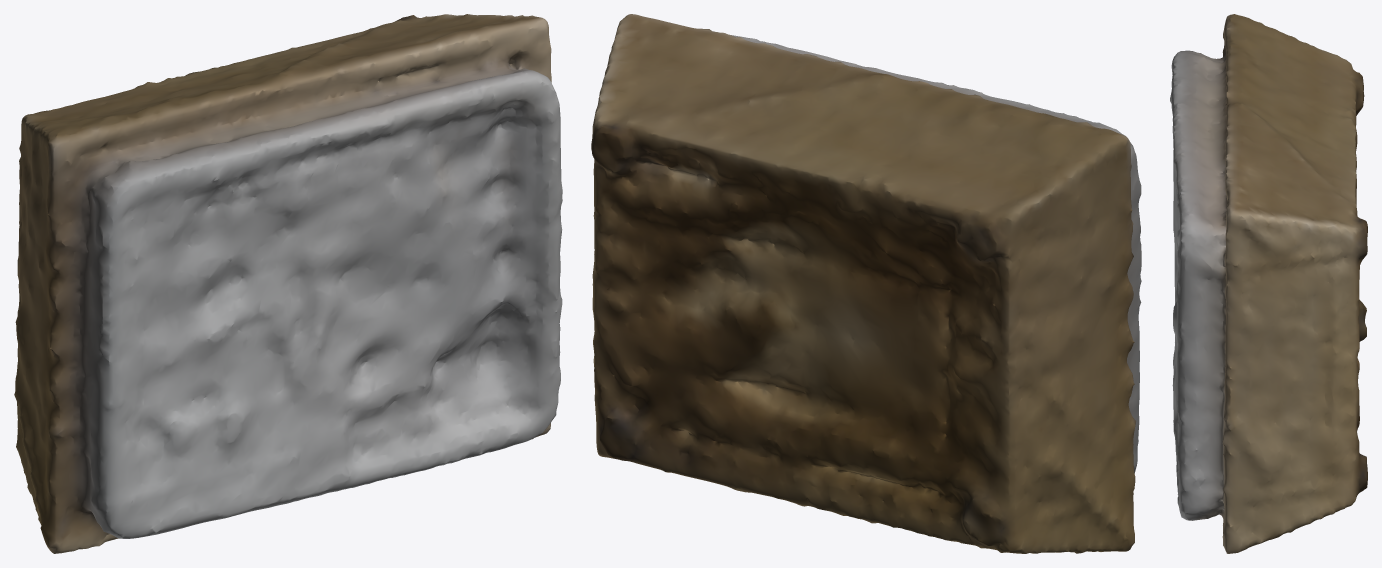
The model's file is soap.glb.
3 views of the same model, side by side, from view 1: azimuth 30°, elevation 25°; view 2: azimuth 150°, elevation 25°; view 3: azimuth 270°, elevation 25° (orthographic). The views are drawn at different scales.
Size of the model in its own units: 0.9953 by 0.7919 by 0.4058.
